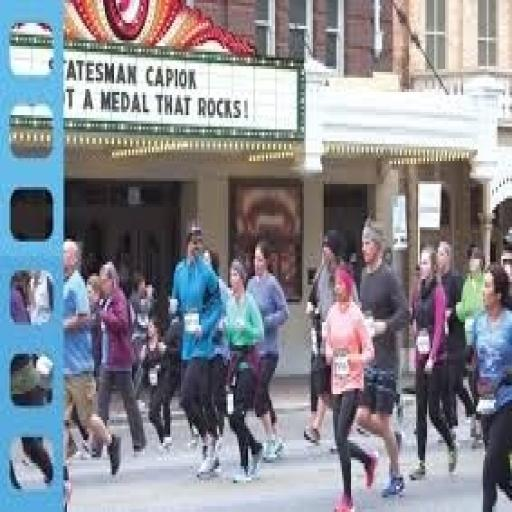running: (352, 218, 410, 504), (167, 222, 226, 484), (318, 262, 380, 509), (407, 242, 461, 483), (463, 259, 510, 509), (219, 256, 268, 486), (244, 236, 292, 466)
